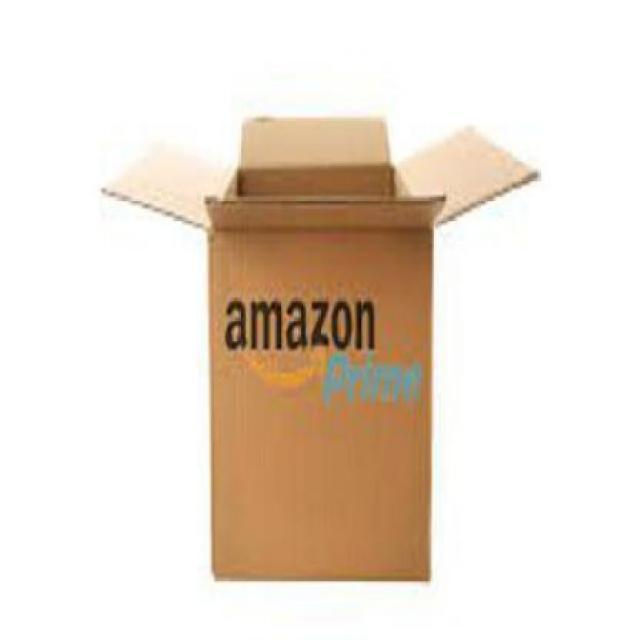box: (107, 117, 521, 582)
